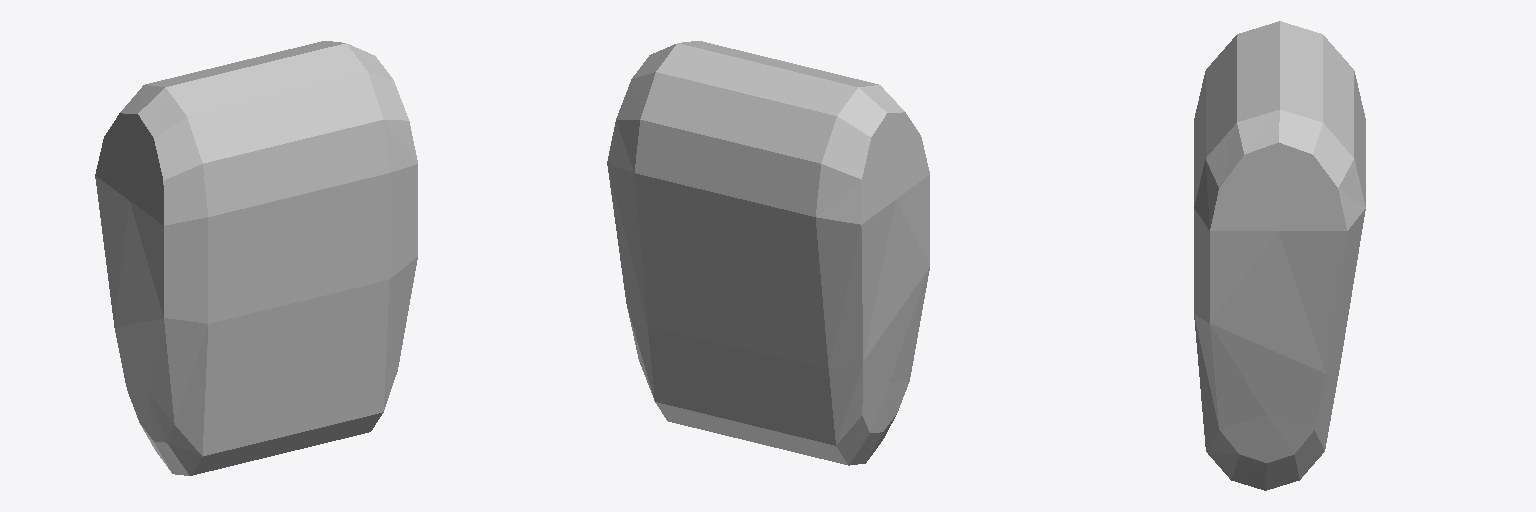
The model's file is finger3.obj.
The picture shows the model from 3 angles: view 1: azimuth 30°, elevation 25°; view 2: azimuth 150°, elevation 25°; view 3: azimuth 270°, elevation 25°; orthographic projection.
Visible parts, largest first — view 1: unnamed_object1; view 2: unnamed_object1; view 3: unnamed_object1.
Part boxes in pixels (left/top/right/bottom): unnamed_object1: left=95, top=41, right=417, bottom=475; unnamed_object1: left=607, top=41, right=929, bottom=465; unnamed_object1: left=1194, top=21, right=1365, bottom=490.
Size of the model in its own units: 1.42 by 2.04 by 0.832.